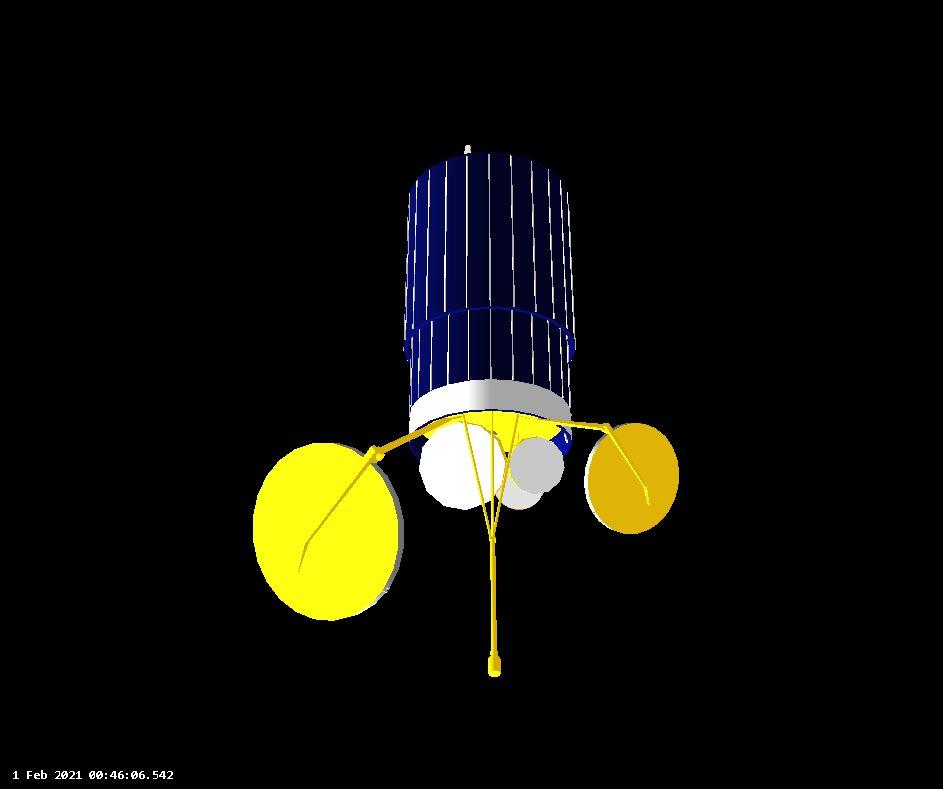antenna: (252, 440, 408, 620), (454, 408, 530, 683), (582, 418, 679, 537), (417, 420, 509, 514), (508, 440, 567, 495), (496, 456, 544, 512)
body: (400, 138, 583, 471)
solar: (404, 145, 580, 407)
